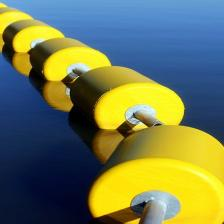yellow: (88, 126, 224, 224), (94, 83, 185, 129), (43, 47, 111, 80), (12, 26, 64, 52)
